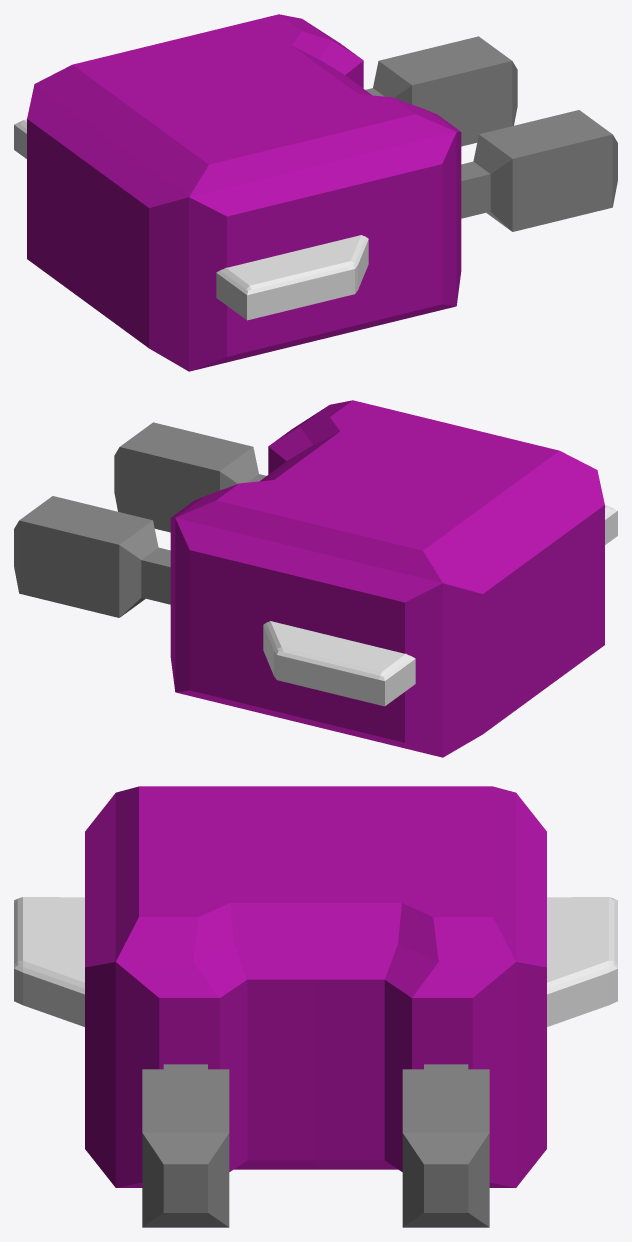
Rendered from enemy_spaceship_1.fbx.
The picture shows the model from 3 angles, top to bottom: view 1: azimuth 30°, elevation 25°; view 2: azimuth 150°, elevation 25°; view 3: azimuth 270°, elevation 25°; orthographic projection. The views are drawn at different scales.
Parts seen in each view (by area): view 1: Cube, Cube.001, Cube.002; view 2: Cube, Cube.001, Cube.002; view 3: Cube, Cube.001, Cube.002.
Boxes of the visible parts, x1,y1,x2,y2 form: Cube: (27, 14, 461, 371); Cube.001: (365, 36, 617, 231); Cube.002: (14, 119, 368, 320); Cube: (170, 400, 604, 757); Cube.001: (14, 422, 266, 617); Cube.002: (263, 505, 617, 706); Cube: (85, 786, 546, 1187); Cube.001: (142, 1064, 489, 1227); Cube.002: (14, 897, 617, 1026).
Bounding box in the file's own units: 352 × 138 × 302.
